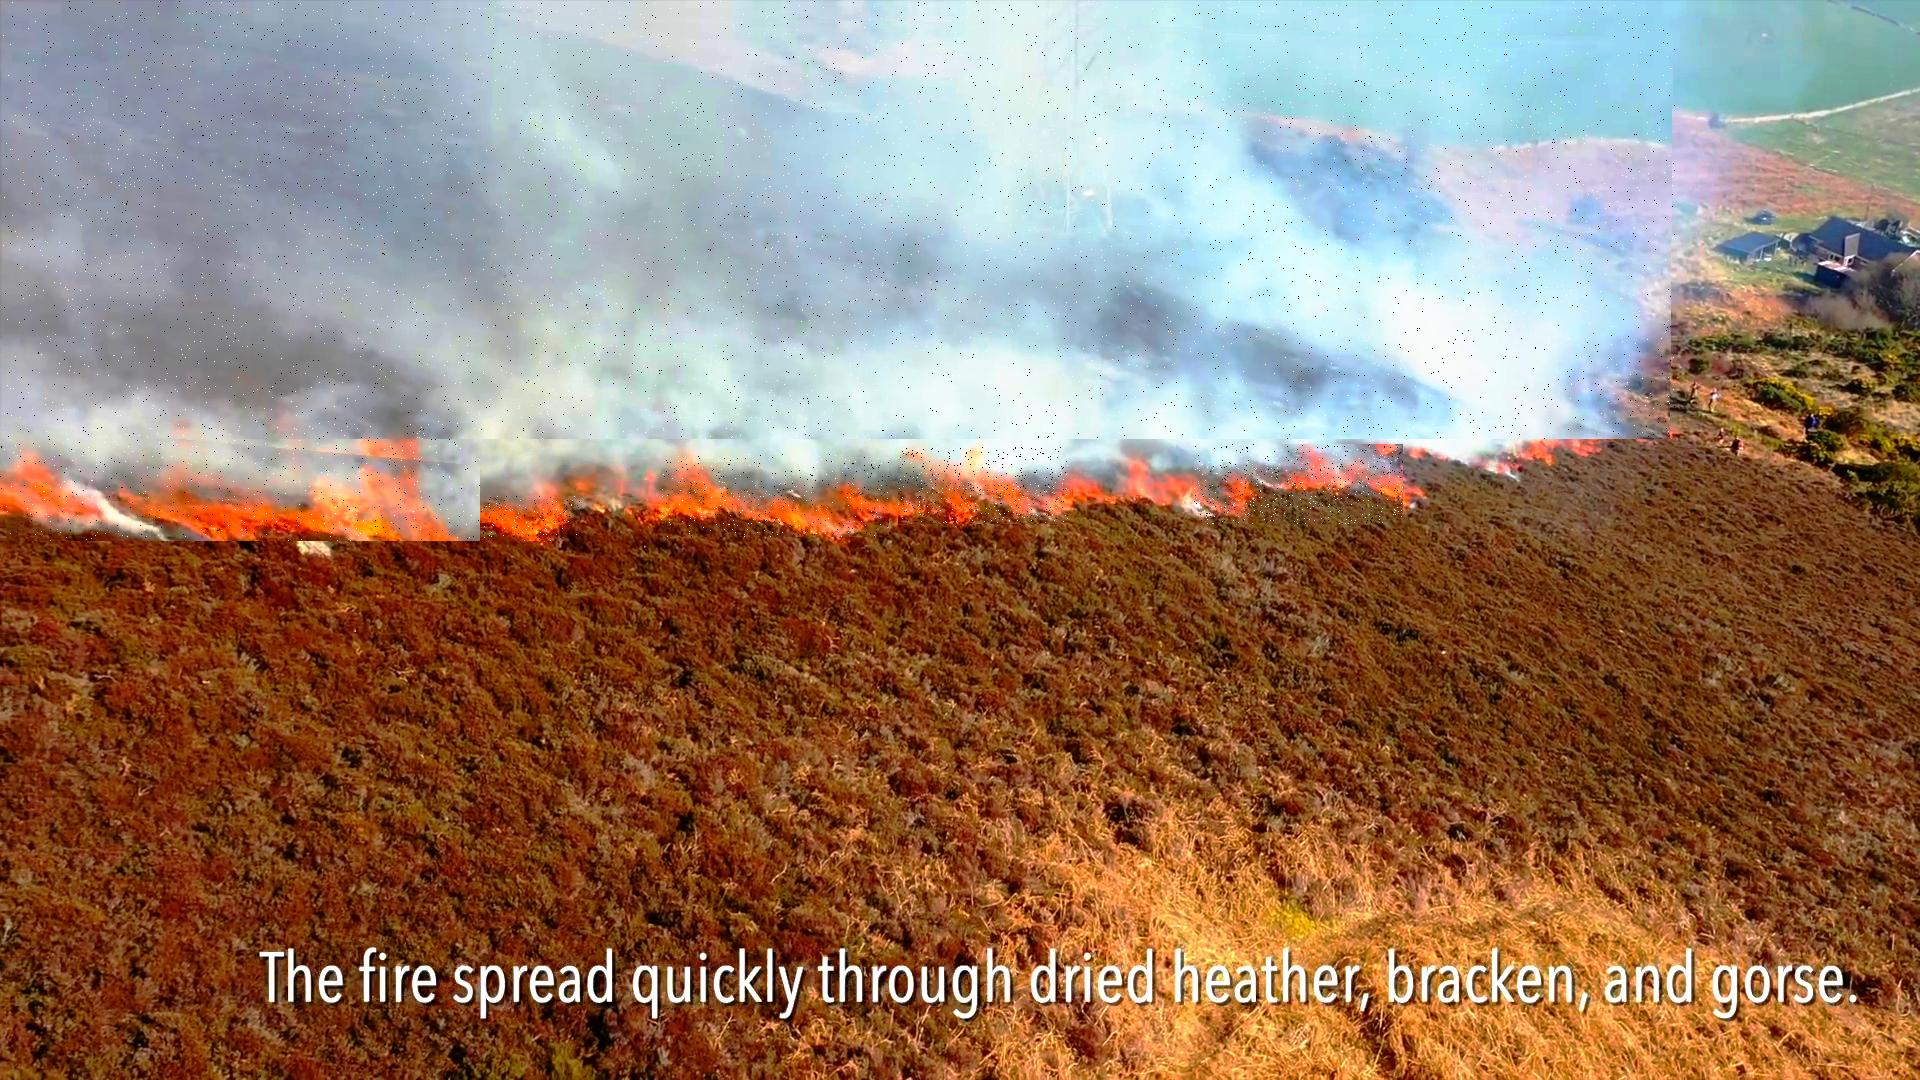fire: (0, 423, 480, 541), (661, 454, 889, 537), (1194, 444, 1403, 524), (899, 447, 1069, 524), (481, 496, 580, 541)
smoke: (3, 1, 1676, 439)
